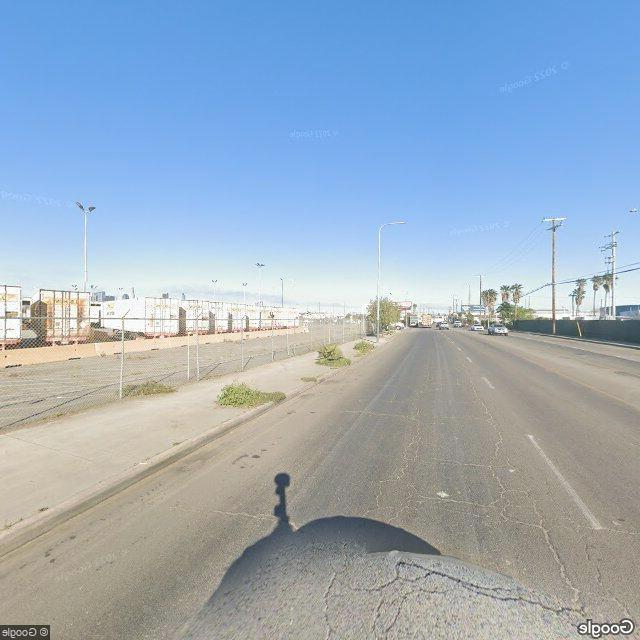crack: (336, 417, 618, 635)
